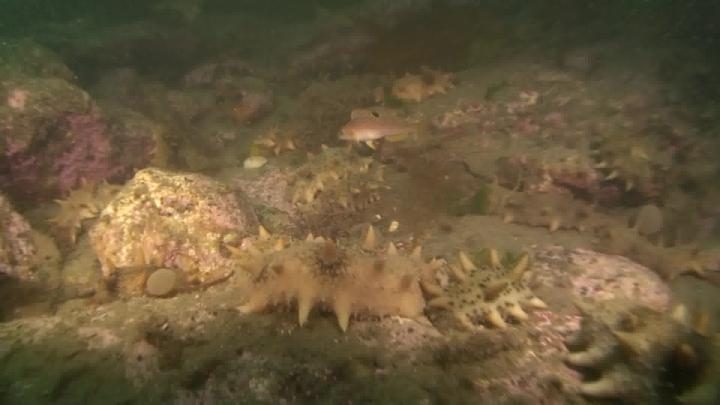holothurian: (566, 291, 720, 405), (234, 229, 432, 282), (250, 268, 420, 325), (424, 251, 542, 333), (293, 144, 387, 205), (614, 227, 708, 280), (492, 182, 592, 230), (50, 178, 123, 239), (590, 129, 655, 190), (397, 66, 458, 100)
scallop: (246, 158, 269, 169)
